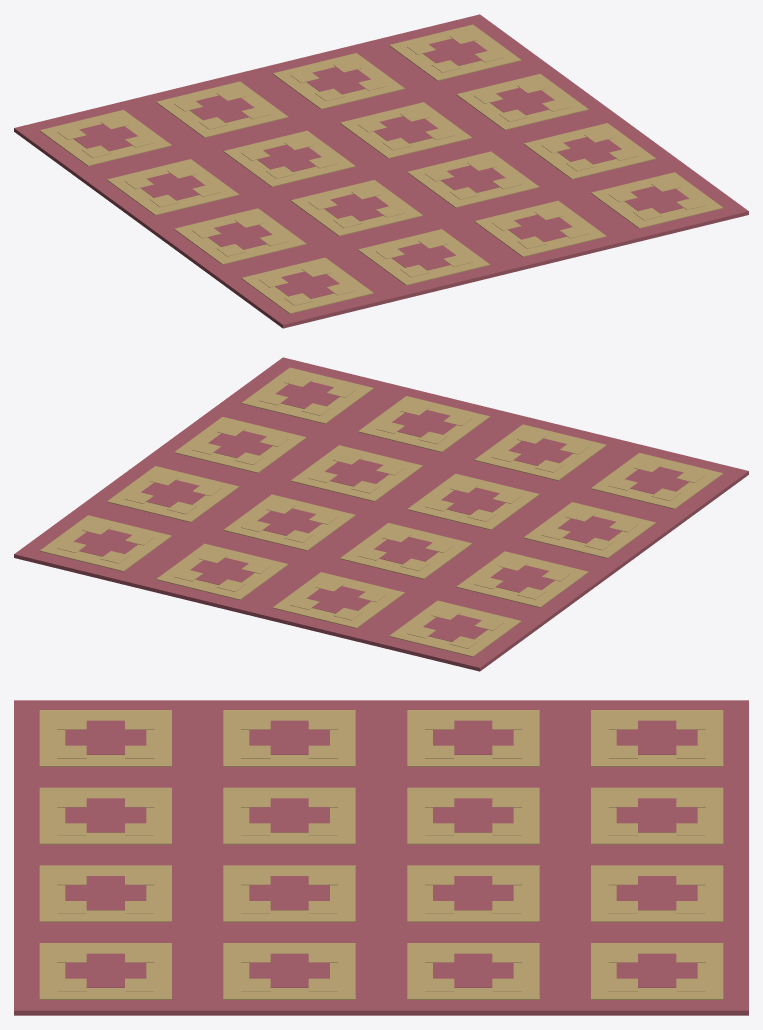
The model's file is casino-floor-and-back-rooms-carpet-tile-42e7ada4__27042.glb.
3 views of the same model, one above another, from view 1: azimuth 30°, elevation 25°; view 2: azimuth 150°, elevation 25°; view 3: azimuth 270°, elevation 25° (orthographic). The views are drawn at different scales.
Visible parts, largest first — view 1: carpet-tile; view 2: carpet-tile; view 3: carpet-tile.
Boxes of the visible parts, box(x1,y1,x2,y2) form: carpet-tile: box(14, 14, 748, 328); carpet-tile: box(14, 357, 748, 671); carpet-tile: box(14, 700, 748, 1015).
Bounding box in the file's own units: 4 × 0.0392 × 4.
